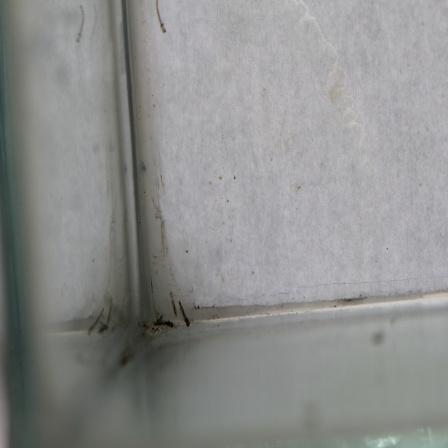Jentik-Nyamuk: (151, 0, 171, 38)
